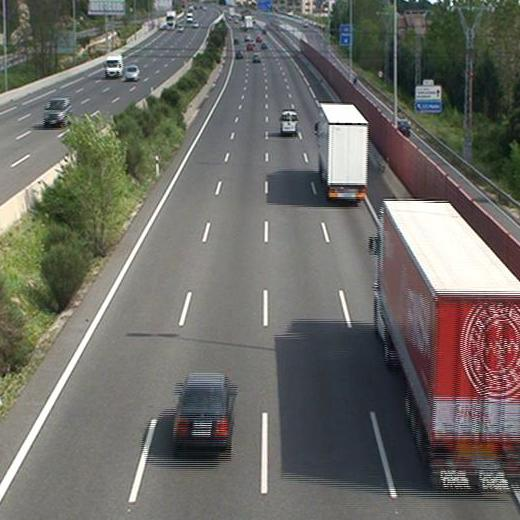car: (175, 375, 234, 452), (252, 52, 261, 63), (235, 49, 244, 60)
truck: (365, 201, 520, 489), (315, 103, 369, 203)
van: (279, 111, 298, 135)
